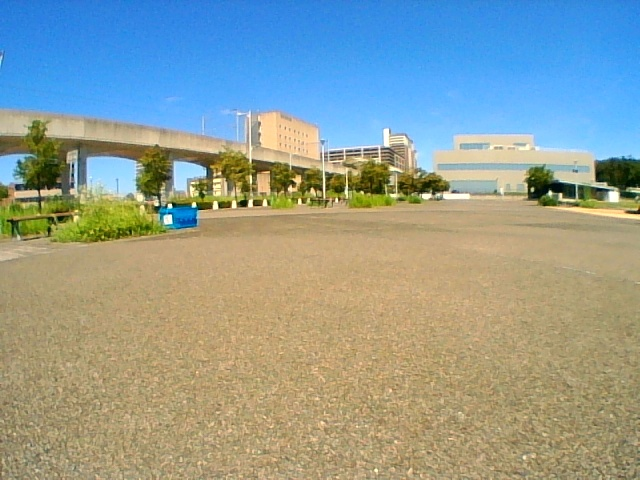blue_box: (161, 209, 197, 227)
tag: (164, 215, 172, 224)
